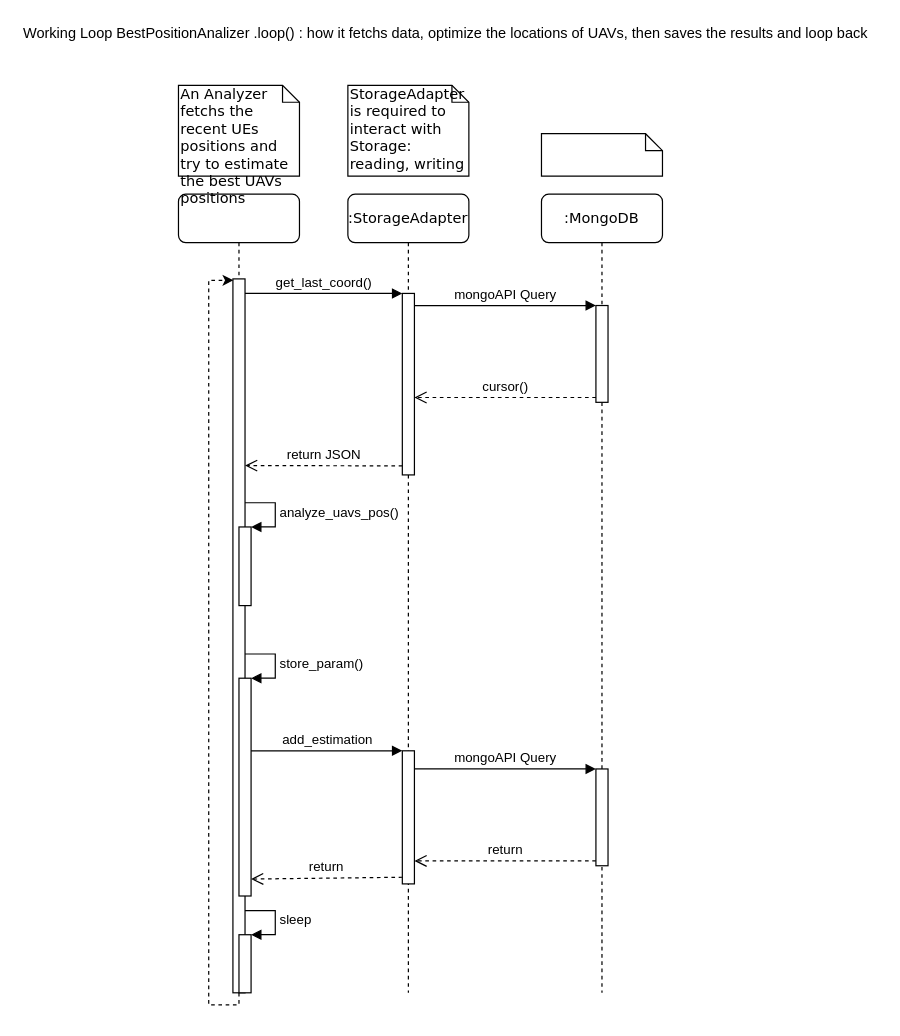
Some shapes in this 900 by 1036 pixel diagram are drawn without their labels. Each missing label, with the centre of its shape:
":BestPositionAnalizer" goes at (238,593).
"Store all records" goes at (601,154).
